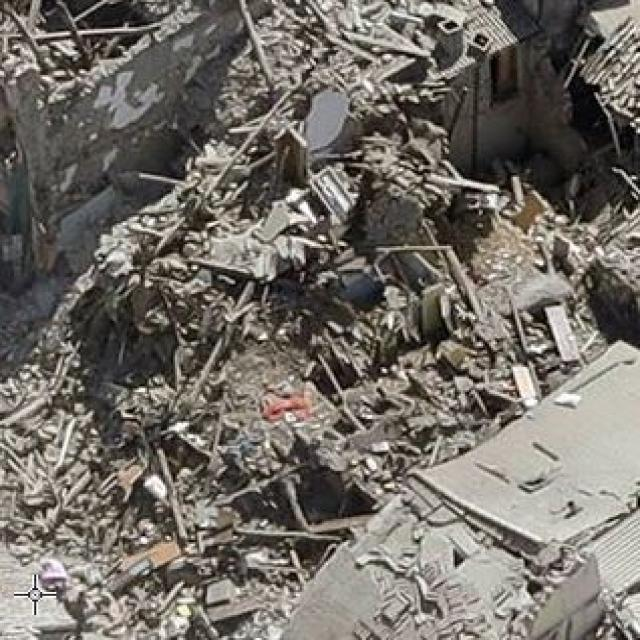collapsed_building: (4, 5, 513, 572)
